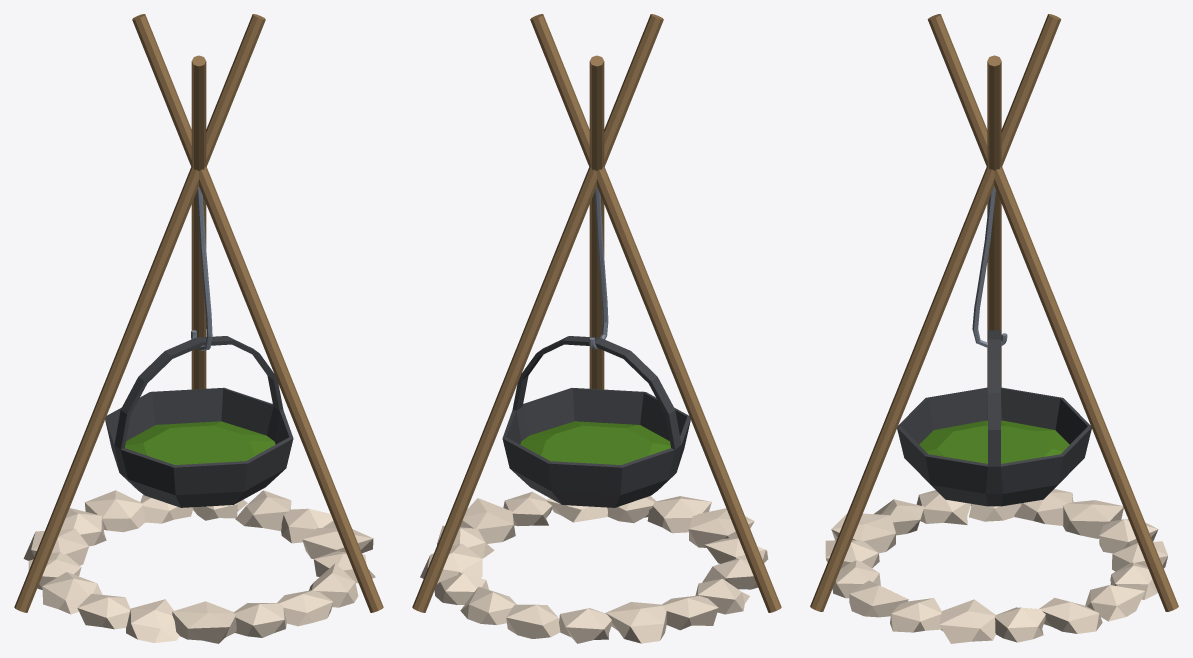
Rendered from Campfire.fbx.
The picture shows the model from 3 angles, left to right: view 1: azimuth 30°, elevation 25°; view 2: azimuth 150°, elevation 25°; view 3: azimuth 270°, elevation 25°; orthographic projection.
Visible parts, largest first — view 1: Campfire; view 2: Campfire; view 3: Campfire.
Boxes of the visible parts, left/top/right/bottom form: Campfire: left=14, top=14, right=383, bottom=643; Campfire: left=412, top=14, right=781, bottom=643; Campfire: left=810, top=14, right=1178, bottom=643.
Bounding box in the file's own units: 268 × 414 × 255.
